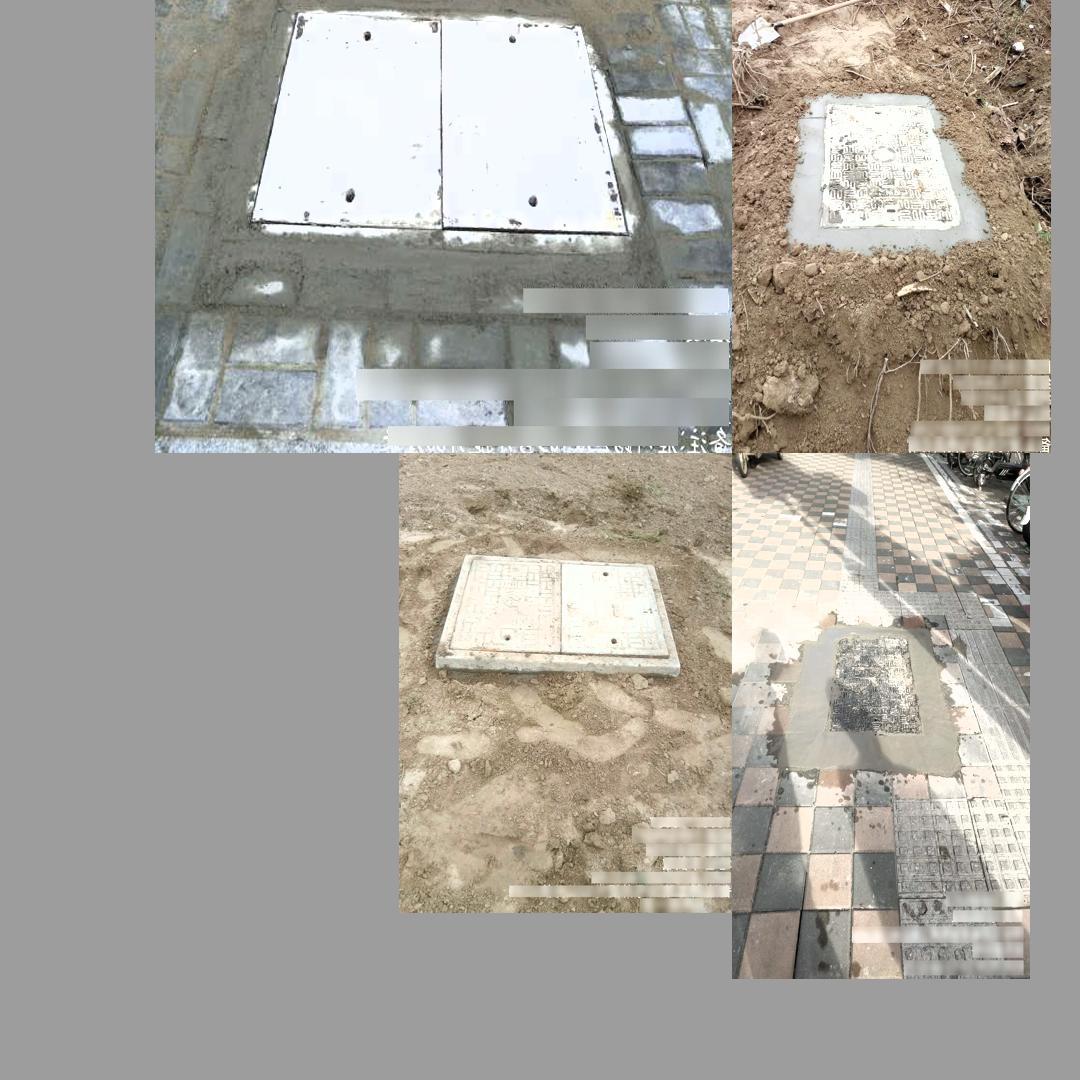good: (247, 9, 641, 244), (435, 554, 679, 663), (819, 93, 955, 230), (821, 634, 924, 734)
